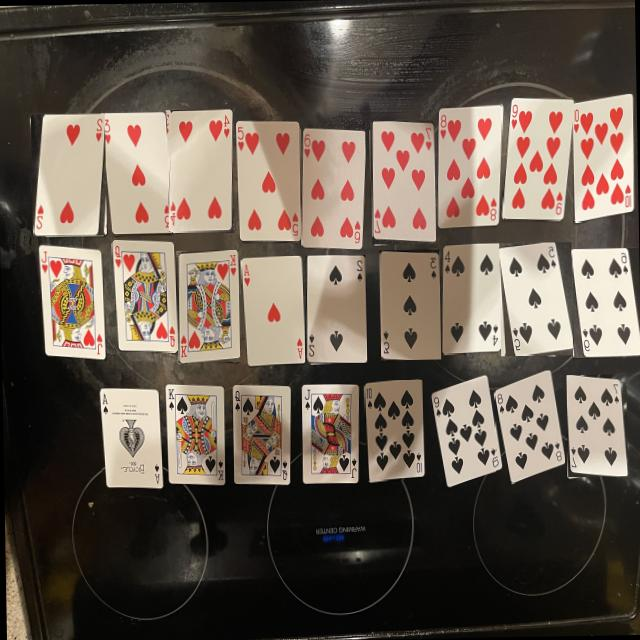10 of hearts: (571, 94, 633, 222)
10 of spades: (363, 380, 423, 480)
2 of hearts: (32, 114, 102, 236)
2 of spades: (305, 254, 366, 363)
3 of hearts: (99, 113, 171, 235)
3 of spades: (379, 251, 439, 360)
4 of hearts: (166, 110, 231, 232)
4 of spades: (440, 243, 502, 354)
5 of hearts: (235, 121, 299, 242)
5 of spades: (498, 243, 572, 355)
6 of hearts: (300, 128, 364, 249)
6 of spades: (571, 248, 640, 357)
7 of hearts: (370, 122, 434, 242)
7 of spades: (565, 376, 626, 476)
8 of hearts: (436, 105, 500, 228)
8 of spades: (493, 371, 563, 483)
9 of hearts: (501, 98, 572, 220)
9 of spades: (430, 376, 499, 486)
Ace of hearts: (240, 255, 303, 366)
Ace of spades: (99, 388, 161, 489)
Jack of hearts: (38, 245, 104, 359)
Jack of spades: (300, 384, 358, 483)
King of hearts: (176, 250, 238, 362)
King of spades: (165, 384, 224, 485)
Queen of hearts: (111, 240, 176, 352)
Queen of spades: (231, 385, 289, 484)
